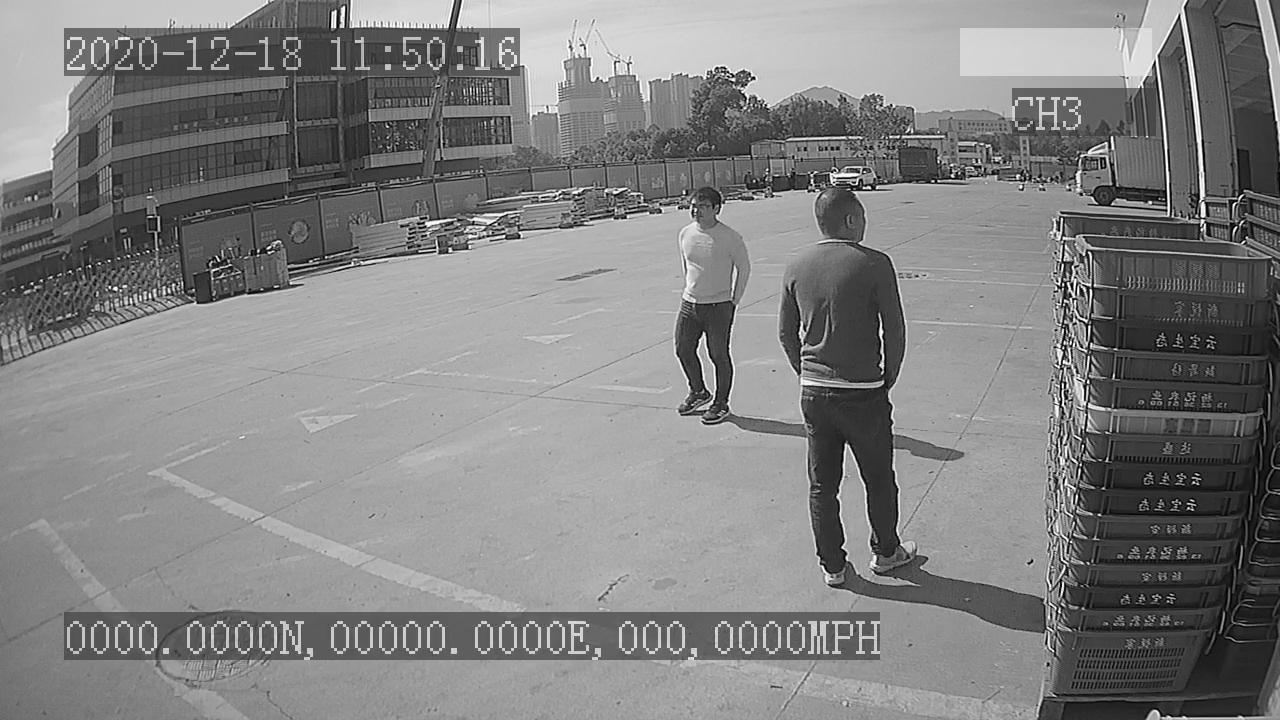person: (772, 179, 924, 597), (667, 185, 754, 429)
